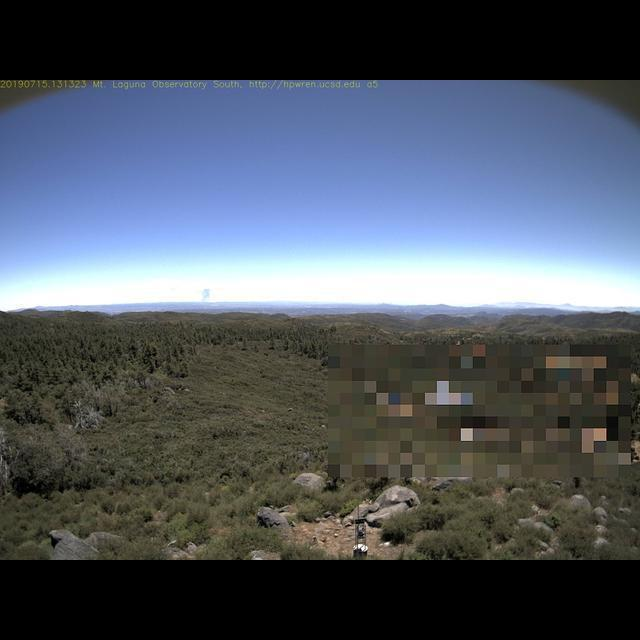Smoke: (198, 285, 211, 305)
